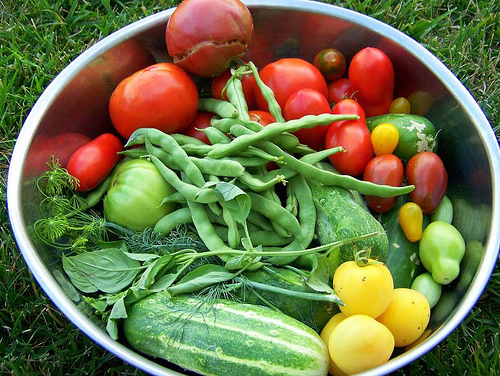cucumber: (125, 297, 327, 375), (304, 161, 390, 263)
